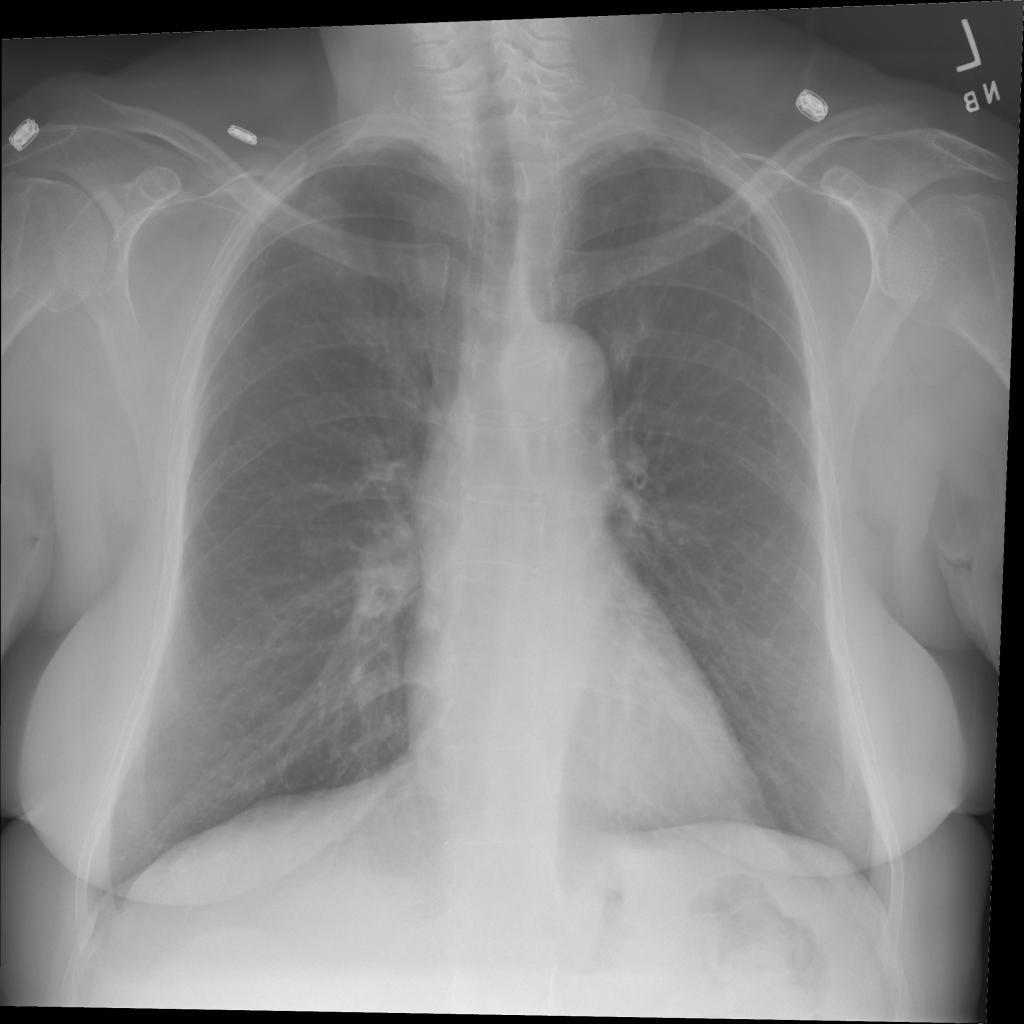Nodule: (122, 203, 140, 223), (101, 197, 115, 215)
